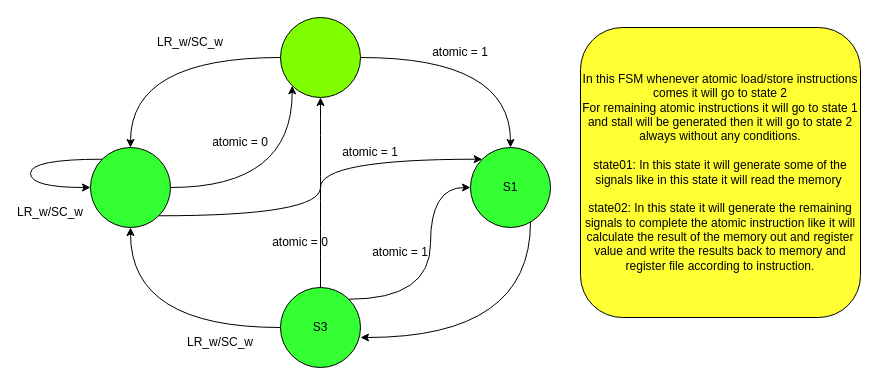
Image size: 878x385. Some labels were removed from this diagram. Each missing label, with the box of its shape:
S0: (280, 16, 360, 98)
S2: (90, 146, 170, 228)
